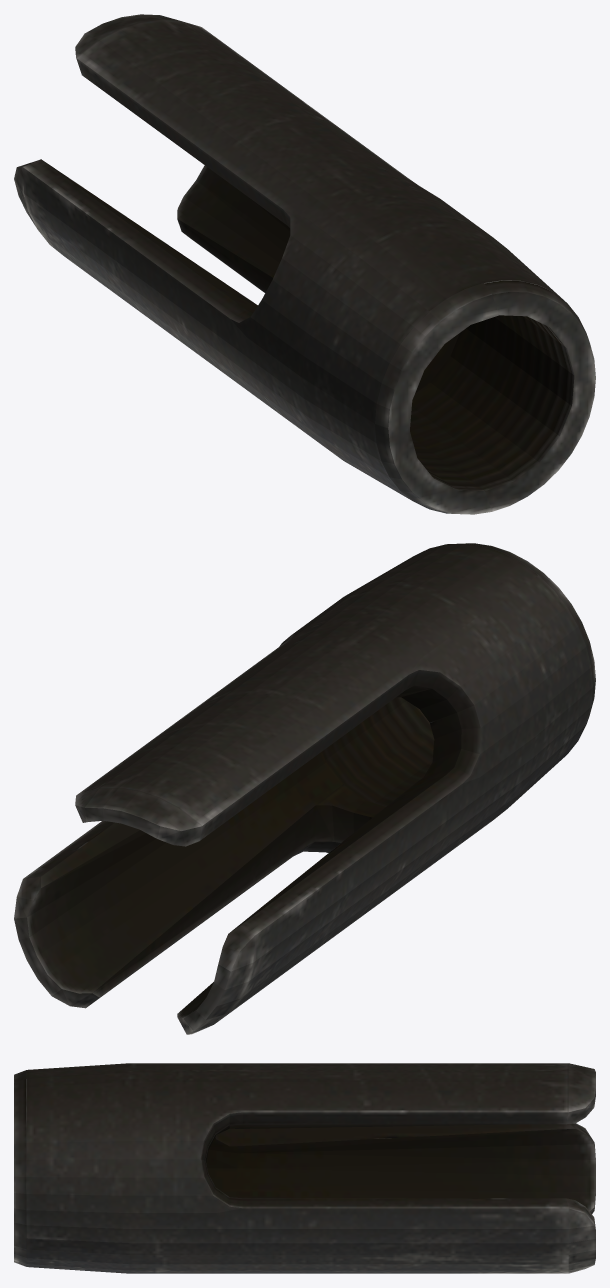
3 views of the same model, one above another, from view 1: azimuth 30°, elevation 25°; view 2: azimuth 150°, elevation 25°; view 3: azimuth 270°, elevation 25° (orthographic). The views are drawn at different scales.
Parts seen in each view (by area): view 1: TW_5c48a2a42e221602b66d1e07_PZ_Import; view 2: TW_5c48a2a42e221602b66d1e07_PZ_Import; view 3: TW_5c48a2a42e221602b66d1e07_PZ_Import.
Boxes of the visible parts, x1=… form: TW_5c48a2a42e221602b66d1e07_PZ_Import: x1=14, y1=14, x2=595, y2=514; TW_5c48a2a42e221602b66d1e07_PZ_Import: x1=14, y1=543, x2=595, y2=1034; TW_5c48a2a42e221602b66d1e07_PZ_Import: x1=14, y1=1063, x2=595, y2=1273.
Bounding box in the file's own units: 0.0122 × 0.0337 × 0.0122.
Materials: 1 (1 with a texture image).
